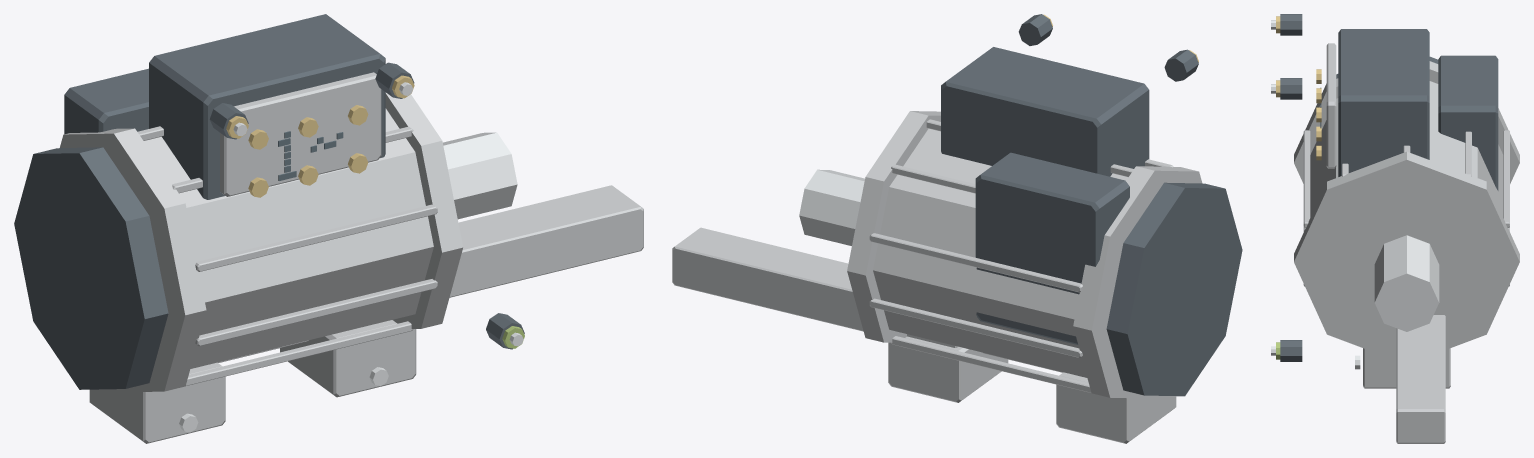
File: motor1Phase.glb
3 views of the same model, side by side, from view 1: azimuth 30°, elevation 25°; view 2: azimuth 150°, elevation 25°; view 3: azimuth 270°, elevation 25° (orthographic). The views are drawn at different scales.
Visible parts, largest first — view 1: motor1Phase-board; view 2: motor1Phase-board; view 3: motor1Phase-board.
Part boxes in pixels (left/top/right/bottom): motor1Phase-board: left=14, top=14, right=643, bottom=443; motor1Phase-board: left=672, top=14, right=1242, bottom=443; motor1Phase-board: left=1271, top=14, right=1519, bottom=443.
Bounding box in the file's own units: 4.22 × 2.6 × 2.05.
